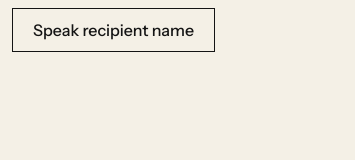
transcribes a field without live checks and only fills it after Stop
The width and height of the screenshot is (355, 160).
Later steps or results of the test are not shown.
Click the button with aria-label "Dictate recipient name".
click(114, 30)  # box [12,8,215,52]
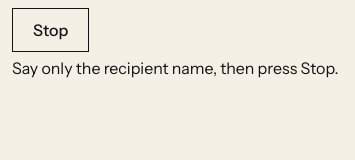
Expected: the button with aria-label "Stop dictating recipient name" is enabled, [12,8,89,52]
Expected: the text "Say only the recipient name, then press Stop." is shown, [12,58,338,78]
